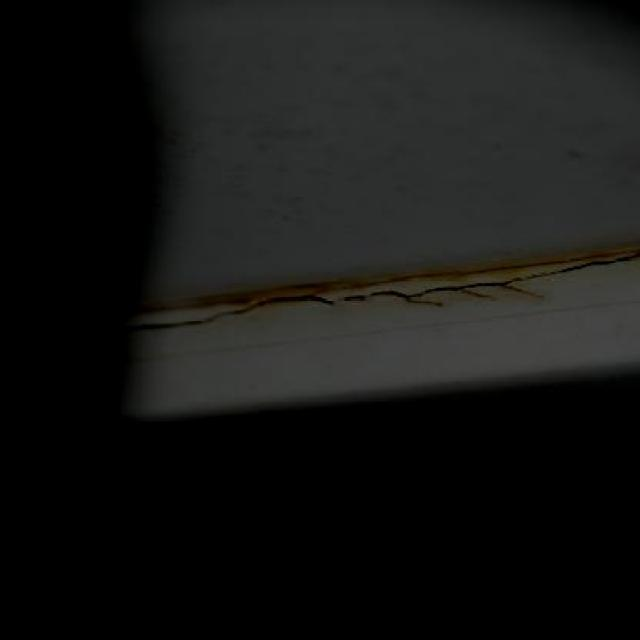crack: (145, 295, 333, 328), (491, 256, 637, 285), (337, 282, 488, 302)
